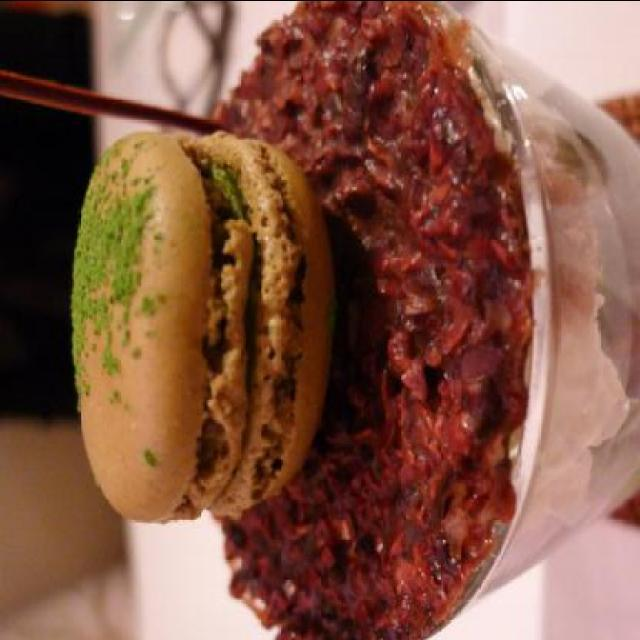Macaron: (62, 118, 320, 528)
